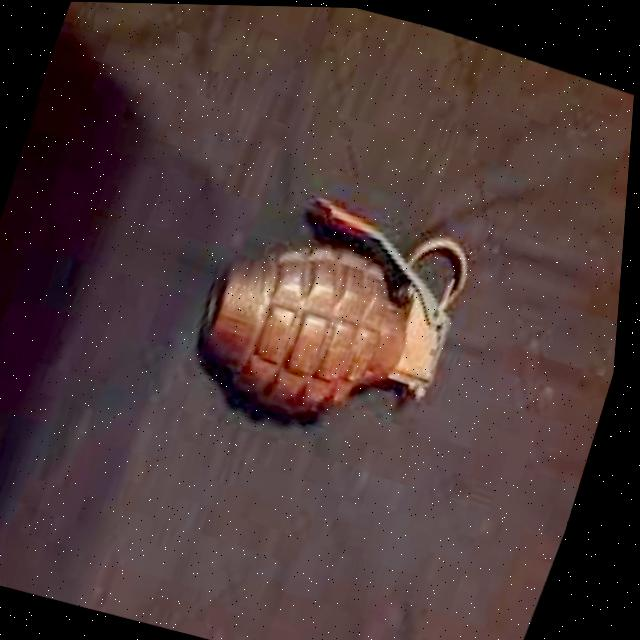grenade: (160, 168, 516, 468)
